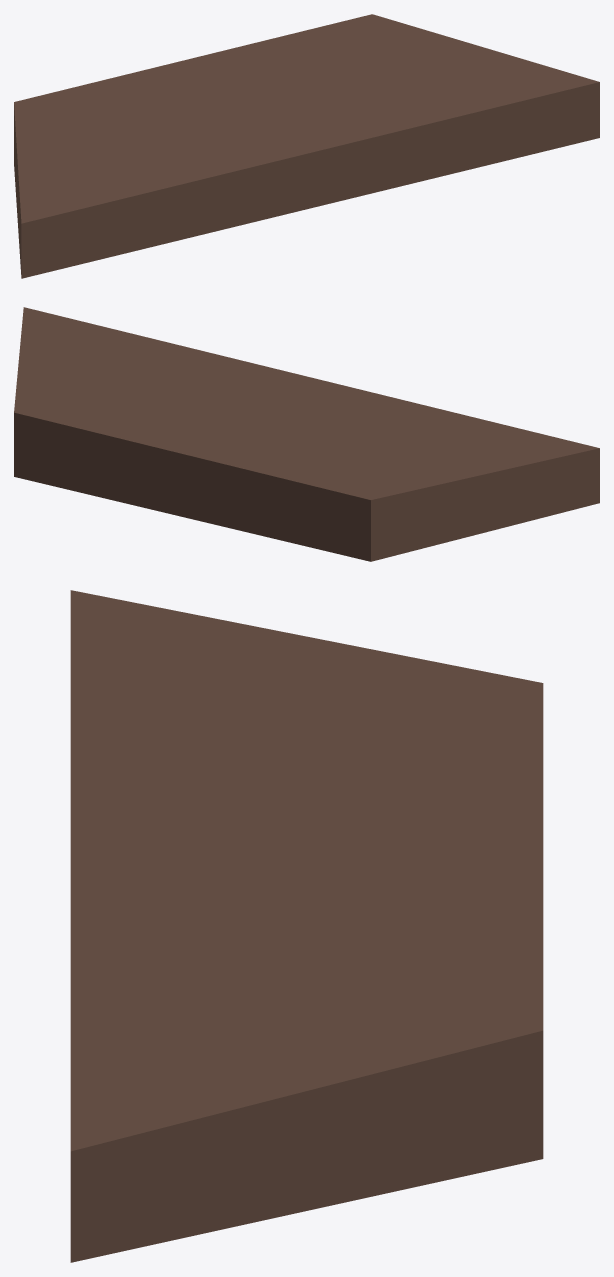
File: TABLE.fbx
3 views of the same model, one above another, from view 1: azimuth 30°, elevation 25°; view 2: azimuth 150°, elevation 25°; view 3: azimuth 270°, elevation 25° (orthographic). The views are drawn at different scales.
Visible parts, largest first — view 1: bkacground1:TABLE; view 2: bkacground1:TABLE; view 3: bkacground1:TABLE.
Part boxes in pixels (x1,y1,x2,y2): bkacground1:TABLE: [14, 14, 599, 278]; bkacground1:TABLE: [14, 307, 599, 561]; bkacground1:TABLE: [70, 590, 543, 1262].
Bounding box in the file's own units: 444 × 47.25 × 158.
